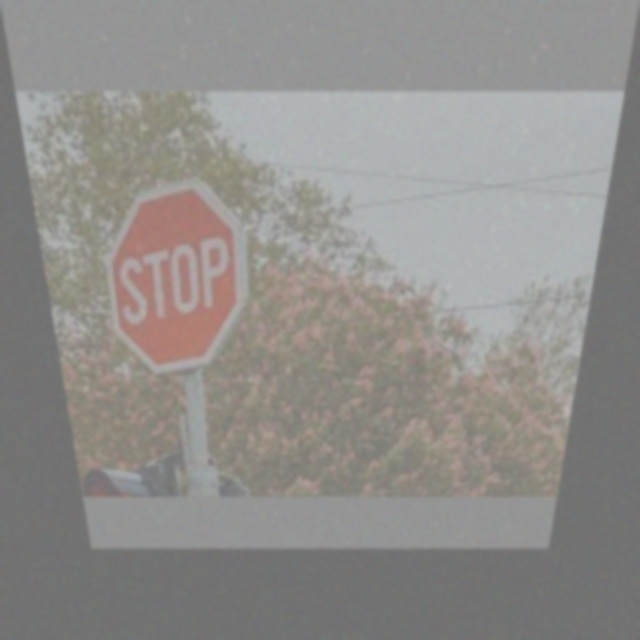Stop: (99, 183, 249, 369)
